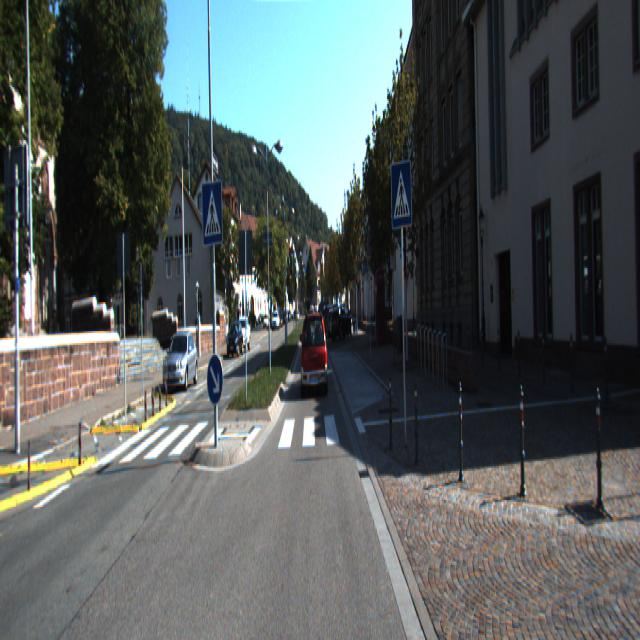Car: (162, 332, 200, 392), (302, 309, 328, 394), (330, 306, 355, 342), (227, 322, 244, 358), (235, 318, 251, 354)
